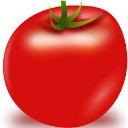tomato: (3, 5, 128, 127)
